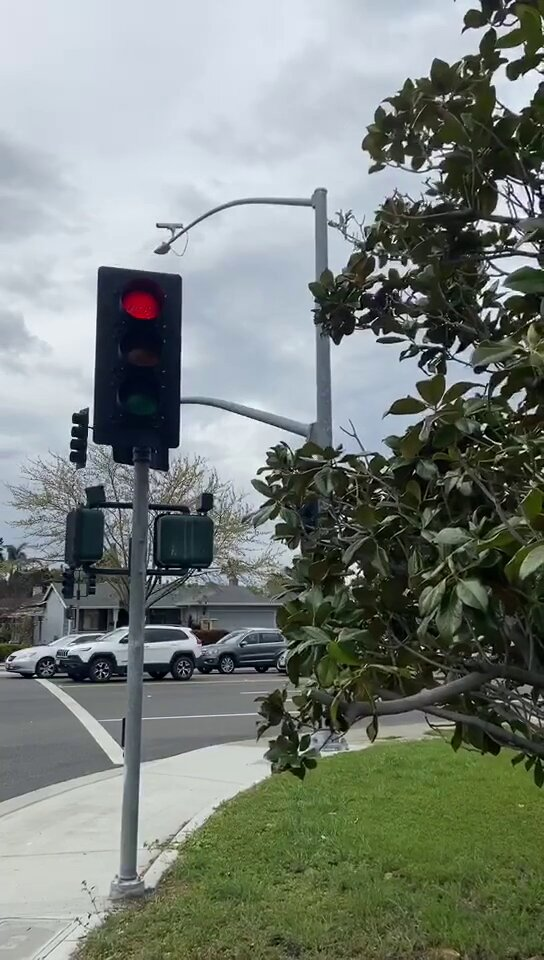red_light: (98, 276, 180, 444)
